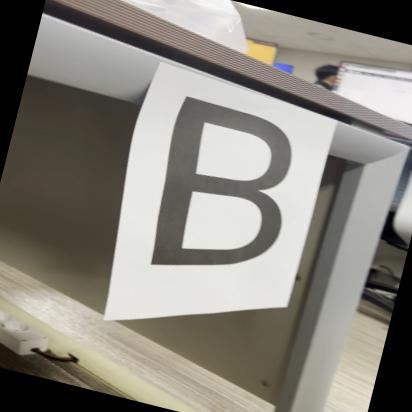seat: (134, 87, 346, 300)
